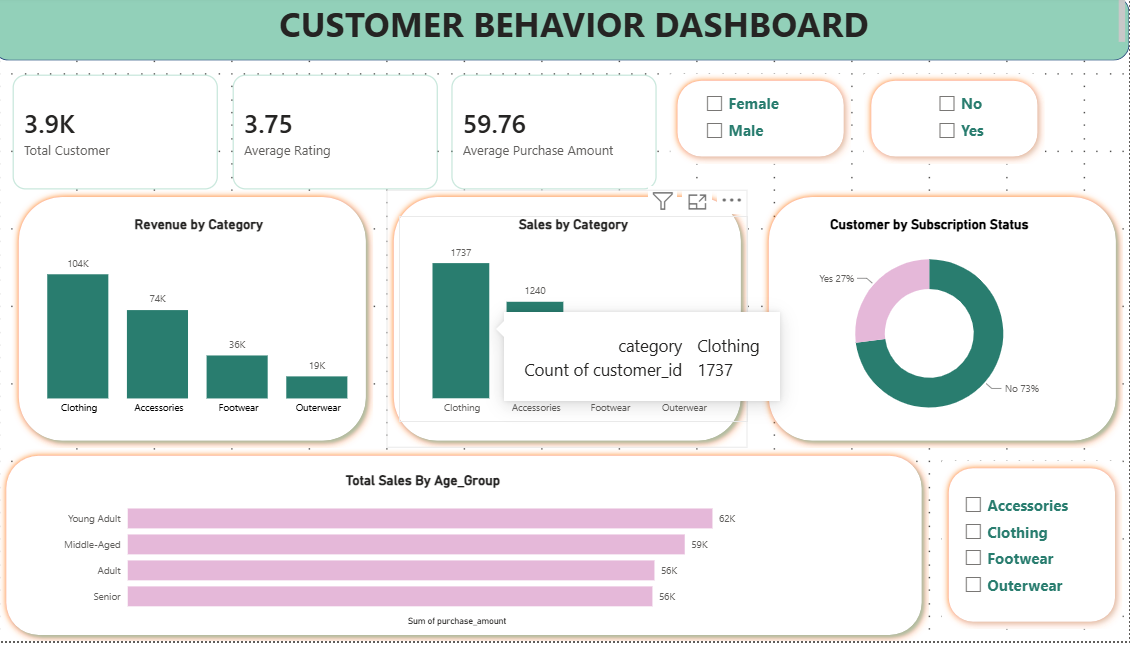

This screenshot's page, from the dashboard's own definition file:
{"tool":"powerbi","page":{"name":"Page 1","canvas":[1400,800],"ordinal":0},"visuals":[{"type":"shape","box":[1072,96,224,112],"z":0,"group":"g5"},{"type":"shape","box":[16,240,448,320],"z":0,"group":"g1"},{"type":"shape","box":[0,560,1152,240],"z":0,"group":"g3"},{"type":"shape","box":[832,96,224,112],"z":1000},{"type":"columnChart","title":"Revenue by Category","fields":{"Category":["analysis mytable.category"],"Y":["Sum(analysis mytable.purchase_amount)"]},"box":[16,272,464,256],"z":1000,"group":"g1"},{"type":"clusteredBarChart","title":"Total Sales By Age_Group","fields":{"Category":["analysis mytable.age_group"],"Y":["Sum(analysis mytable.purchase_amount)"]},"box":[69,590,910.9,195],"z":1000,"group":"g3"},{"type":"shape","box":[1168,576,224,208],"z":2000},{"type":"cardVisual","fields":{"Data":["analysis mytable.Total Customer"]},"box":[0,80,288,176],"z":3000},{"type":"shape","box":[-8,0,1408,80],"z":4000},{"type":"textbox","box":[248,0,1152,64],"z":5000},{"type":"shape","box":[944,240,448,320],"z":5000,"group":"g4"},{"type":"cardVisual","fields":{"Data":["analysis mytable.Average Rating"]},"box":[272,80,288,176],"z":6000},{"type":"donutChart","title":"Customer by Subscription Status","fields":{"Category":["analysis mytable.subscription_status"],"Y":["Count(analysis mytable.customer_id)"]},"box":[944,272,416,272],"z":6000,"group":"g4"},{"type":"cardVisual","fields":{"Data":["analysis mytable.Average Purchase Amount"]},"box":[544,80,288,176],"z":7000},{"type":"group","id":"g1","title":"Group 1","box":[16,240,464,320],"z":8000},{"type":"shape","box":[480,240,448,320],"z":8000,"group":"g2"},{"type":"group","id":"g2","title":"Group 2","box":[480,240,448,320],"z":9000},{"type":"columnChart","title":"Sales by Category","fields":{"Y":["Count(analysis mytable.customer_id)"],"Category":["analysis mytable.category"]},"box":[496,272,432,256],"z":9000,"group":"g2"},{"type":"group","id":"g3","title":"Group 3","box":[0,560,1152,240],"z":10000},{"type":"group","id":"g4","title":"Group 5","box":[944,240,448,320],"z":11000},{"type":"slicer","fields":{"Values":["analysis mytable.gender"]},"box":[864,112,144,96],"z":12000},{"type":"slicer","fields":{"Values":["analysis mytable.category"]},"box":[1184,608,192,192],"z":13000},{"type":"slicer","fields":{"Values":["analysis mytable.subscription_status"]},"box":[1152,112,128,128],"z":14000,"group":"g5"},{"type":"group","id":"g5","title":"Group 4","box":[1072,96,224,144],"z":14001}]}

Visuals, with their boxes in screenshot pixels (x1, y1, x2, y2), scaled from the page's 1400x800 canvas onto the 1130x648 screenshot:
shape: pyautogui.locateOnScreen(865, 78, 1046, 168)
shape: pyautogui.locateOnScreen(13, 194, 375, 454)
shape: pyautogui.locateOnScreen(0, 454, 930, 647)
shape: pyautogui.locateOnScreen(672, 78, 852, 168)
"Revenue by Category" columnChart: pyautogui.locateOnScreen(13, 220, 387, 428)
"Total Sales By Age_Group" clusteredBarChart: pyautogui.locateOnScreen(56, 478, 791, 636)
shape: pyautogui.locateOnScreen(943, 467, 1124, 635)
cardVisual - analysis mytable.Total Customer: pyautogui.locateOnScreen(0, 65, 232, 207)
shape: pyautogui.locateOnScreen(0, 0, 1129, 65)
textbox: pyautogui.locateOnScreen(200, 0, 1129, 52)
shape: pyautogui.locateOnScreen(762, 194, 1124, 454)
cardVisual - analysis mytable.Average Rating: pyautogui.locateOnScreen(220, 65, 452, 207)
"Customer by Subscription Status" donutChart: pyautogui.locateOnScreen(762, 220, 1098, 441)
cardVisual - analysis mytable.Average Purchase Amount: pyautogui.locateOnScreen(439, 65, 672, 207)
"Group 1" group: pyautogui.locateOnScreen(13, 194, 387, 454)
shape: pyautogui.locateOnScreen(387, 194, 749, 454)
"Group 2" group: pyautogui.locateOnScreen(387, 194, 749, 454)
"Sales by Category" columnChart: pyautogui.locateOnScreen(400, 220, 749, 428)
"Group 3" group: pyautogui.locateOnScreen(0, 454, 930, 647)
"Group 5" group: pyautogui.locateOnScreen(762, 194, 1124, 454)
slicer - analysis mytable.gender: pyautogui.locateOnScreen(697, 91, 814, 168)
slicer - analysis mytable.category: pyautogui.locateOnScreen(956, 492, 1111, 647)
slicer - analysis mytable.subscription_status: pyautogui.locateOnScreen(930, 91, 1033, 194)
"Group 4" group: pyautogui.locateOnScreen(865, 78, 1046, 194)
